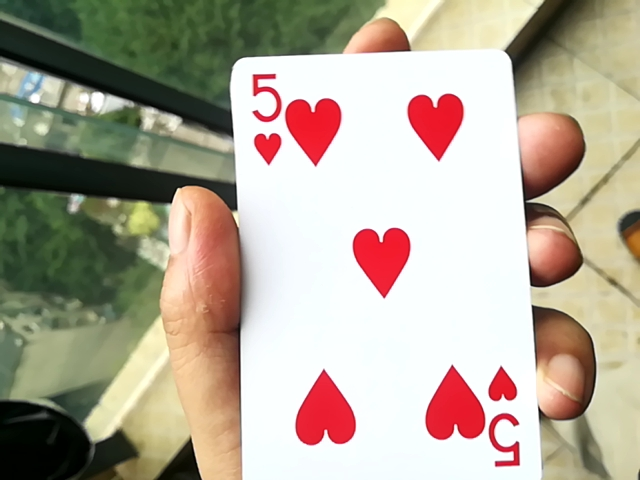hx 5: (211, 50, 548, 480)
